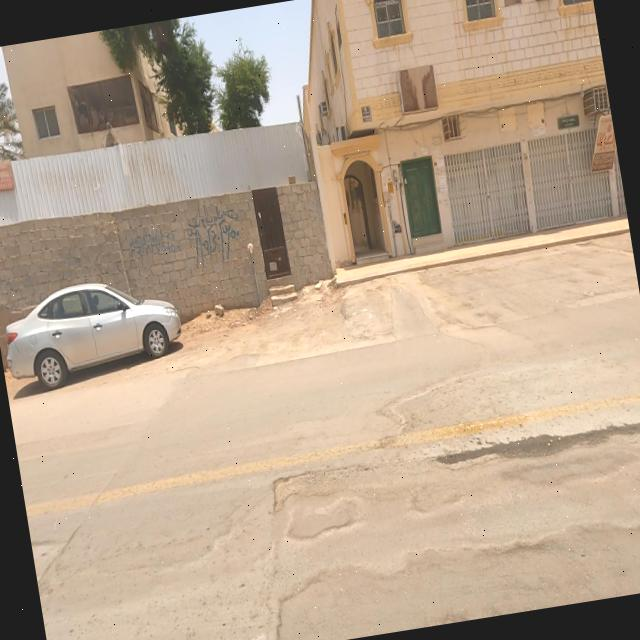Graffiti: (185, 202, 245, 270), (126, 223, 182, 264)
